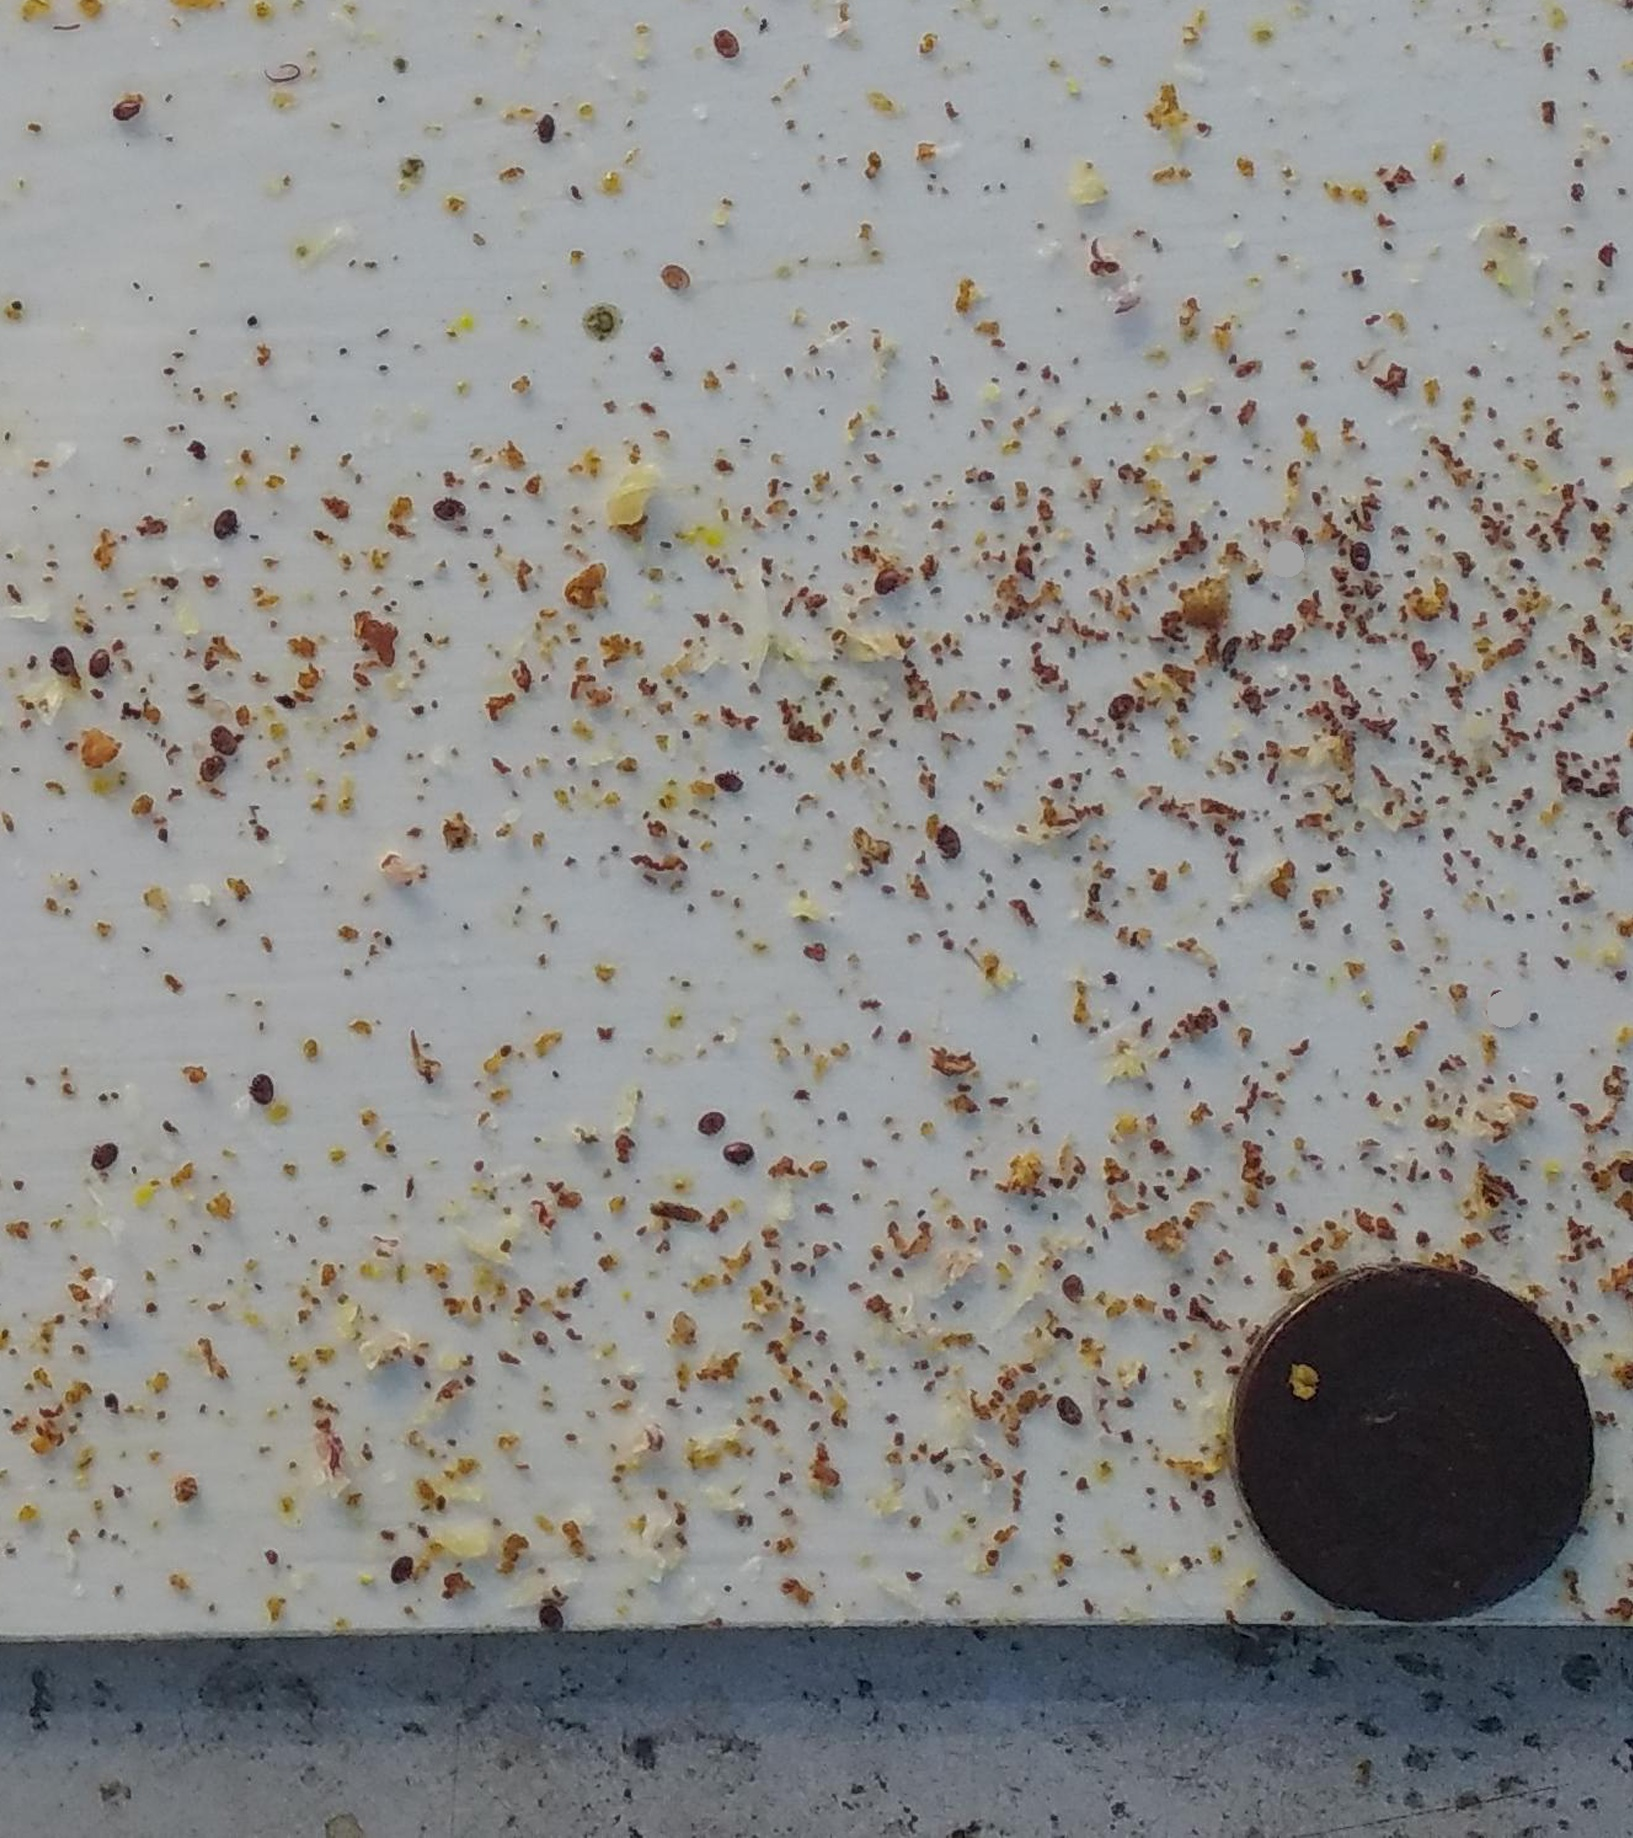Varroa: (107, 91, 150, 132), (192, 755, 225, 788), (1348, 541, 1378, 571), (50, 645, 79, 676), (711, 24, 739, 54), (933, 832, 962, 862), (872, 552, 900, 580), (441, 498, 470, 526), (657, 262, 686, 290), (88, 645, 115, 675), (714, 765, 741, 791), (724, 1137, 750, 1163), (210, 724, 236, 750), (533, 117, 560, 143), (1059, 1277, 1084, 1304), (88, 1138, 113, 1165), (1059, 1390, 1084, 1416), (700, 1108, 725, 1133), (1108, 692, 1133, 717), (211, 509, 238, 533), (385, 1551, 408, 1578), (254, 1080, 277, 1107), (872, 582, 897, 602), (542, 1608, 564, 1628)
